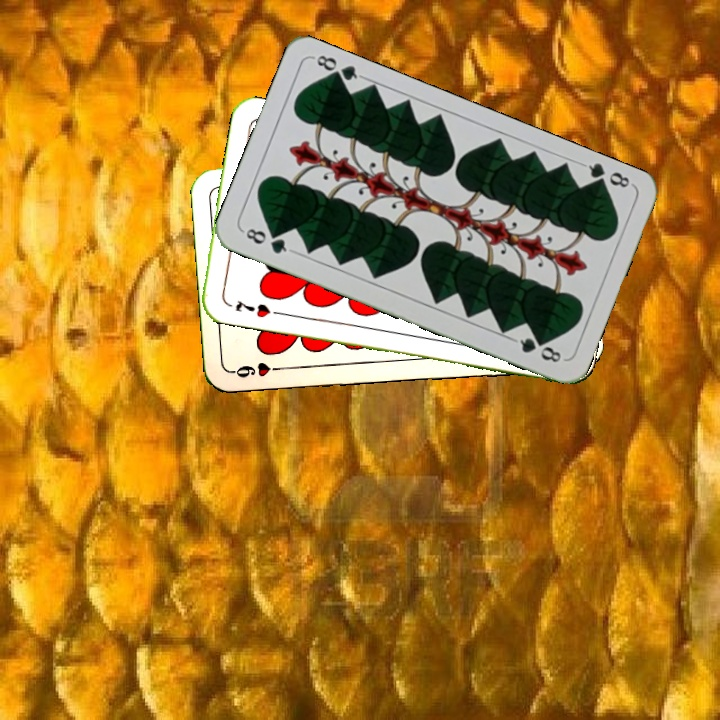G8: (578, 159, 635, 193), (239, 224, 295, 257)
H7: (231, 296, 273, 321)
H9: (228, 358, 288, 380)
